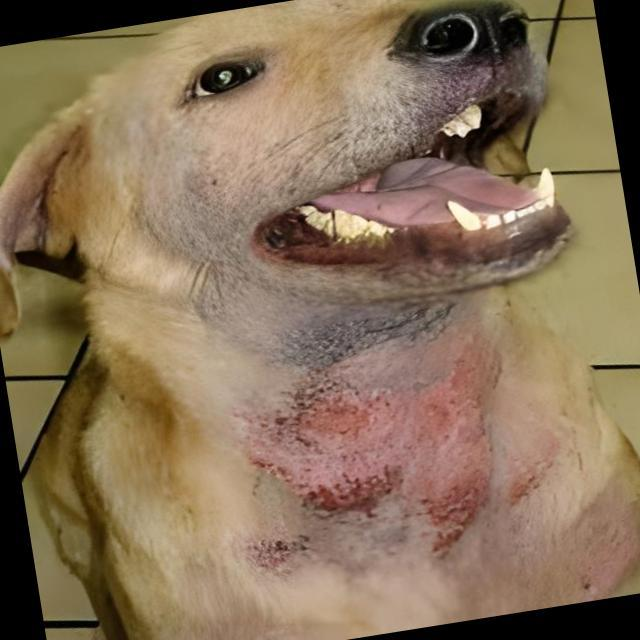allergic dermatitis: (242, 328, 491, 582)
